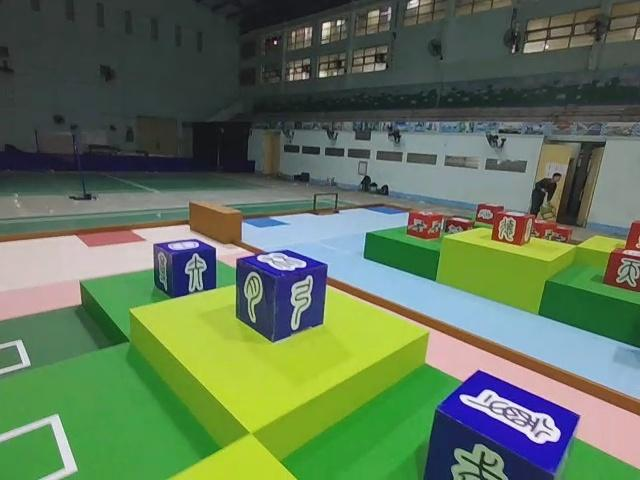R2 Fake Blue: (425, 372, 579, 480), (236, 249, 329, 343), (155, 239, 220, 300), (602, 246, 640, 298)
